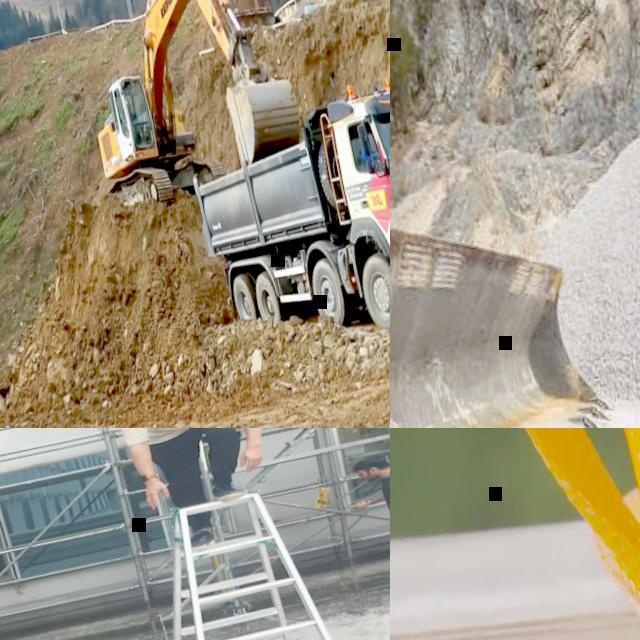NO-Hardhat: (350, 454, 390, 476)
NO-Mask: (361, 472, 381, 484)
NO-Safety Vest: (126, 428, 235, 448), (360, 147, 377, 163)
Person: (102, 428, 286, 562), (340, 437, 390, 607), (357, 131, 387, 168), (119, 105, 138, 144)
machinery: (390, 128, 626, 428), (178, 64, 390, 364), (59, 0, 313, 215)
